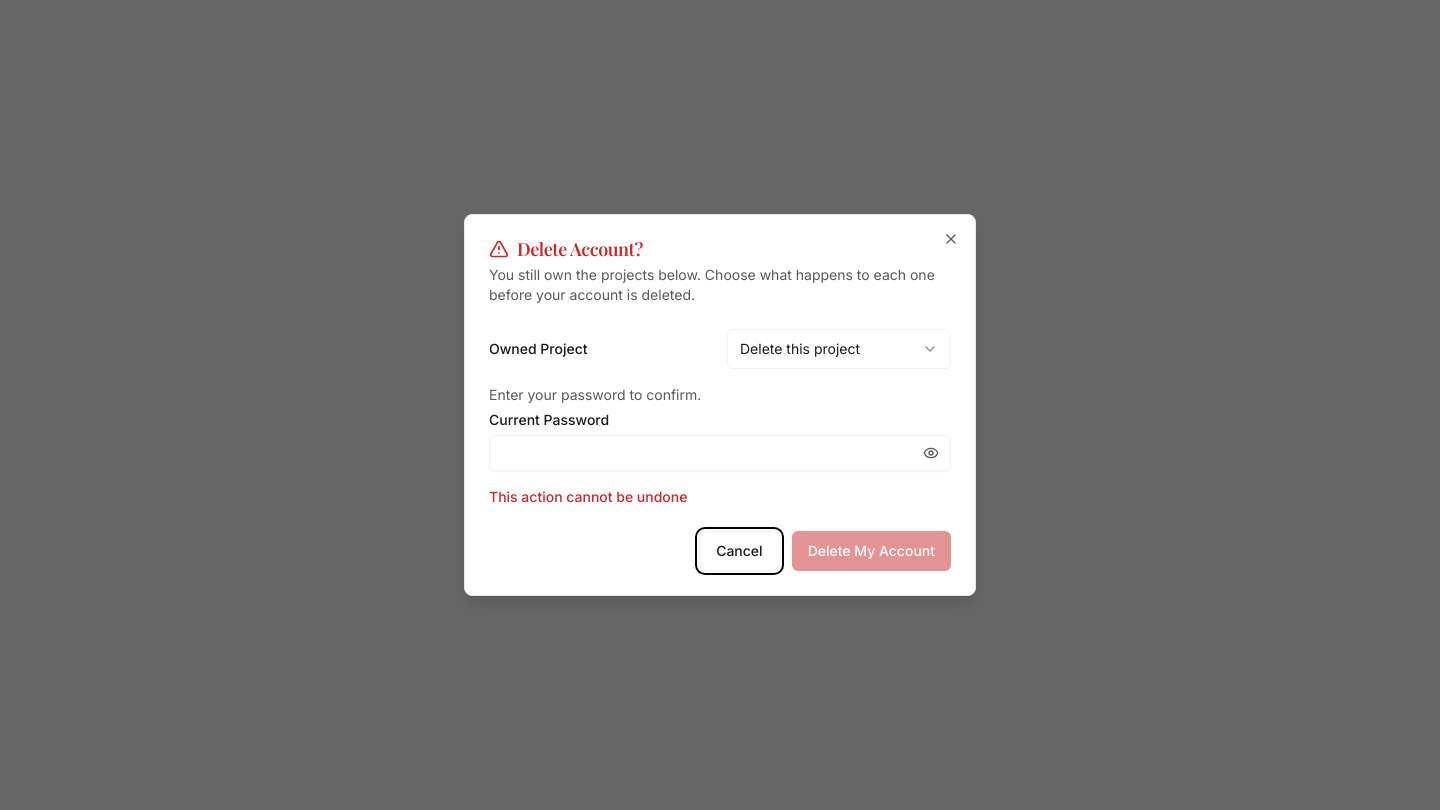
Test case: DeleteAccountDialog › offers the members of a regular project as new admins
Click the dropdown. click: (839, 349)
box: left=727, top=329, right=951, bottom=369
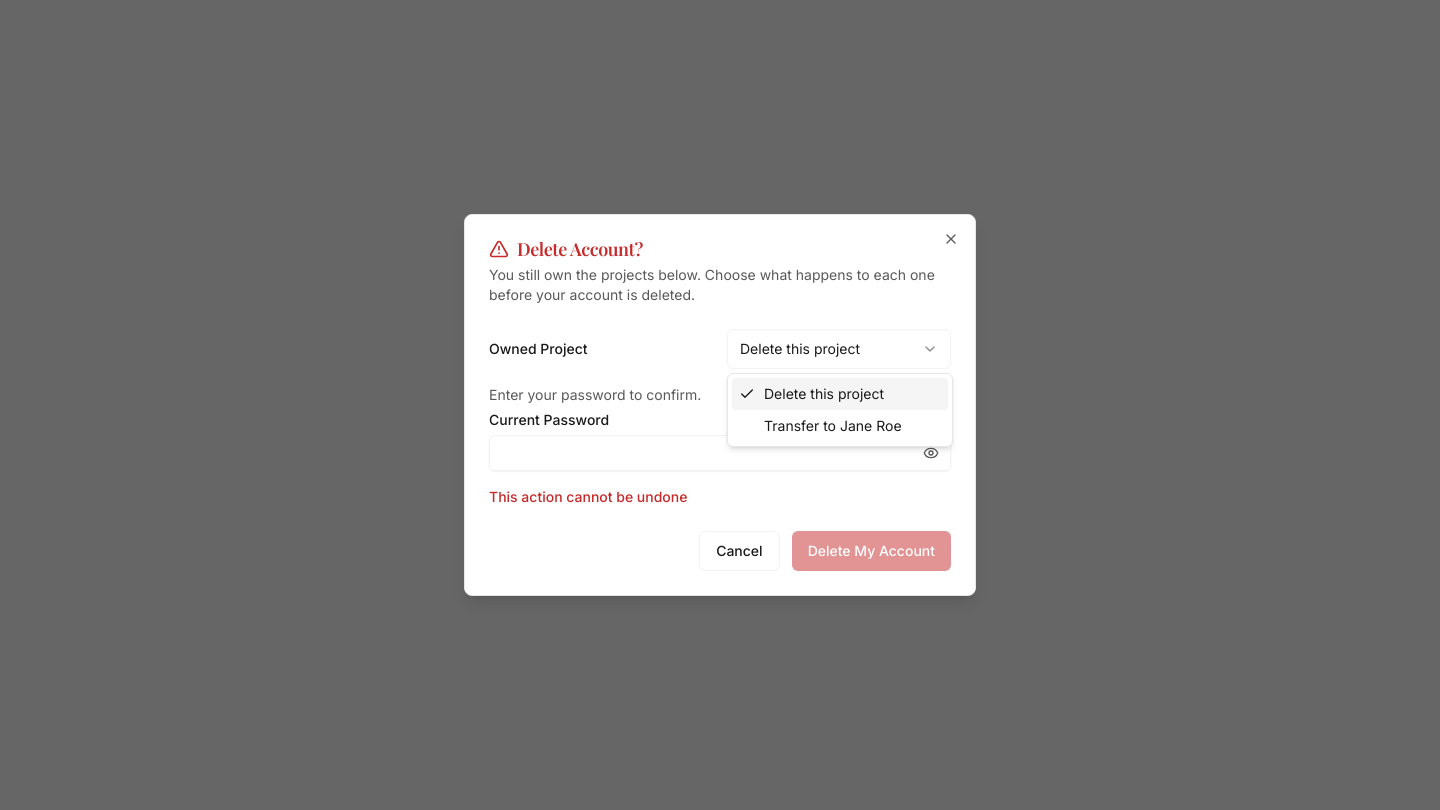
Check: the option "Delete this project" is shown, box left=732, top=378, right=948, bottom=410
Check: the option "Transfer to Jane Roe" is shown, box left=764, top=417, right=902, bottom=434
